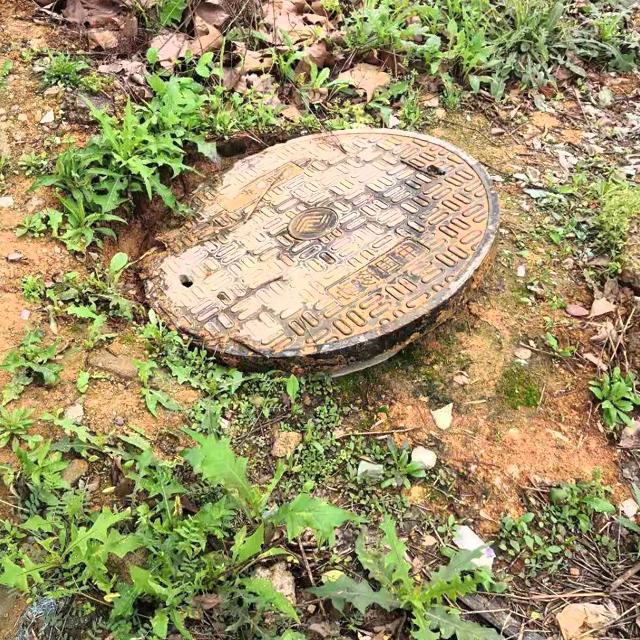uncovered: (71, 106, 514, 380)
